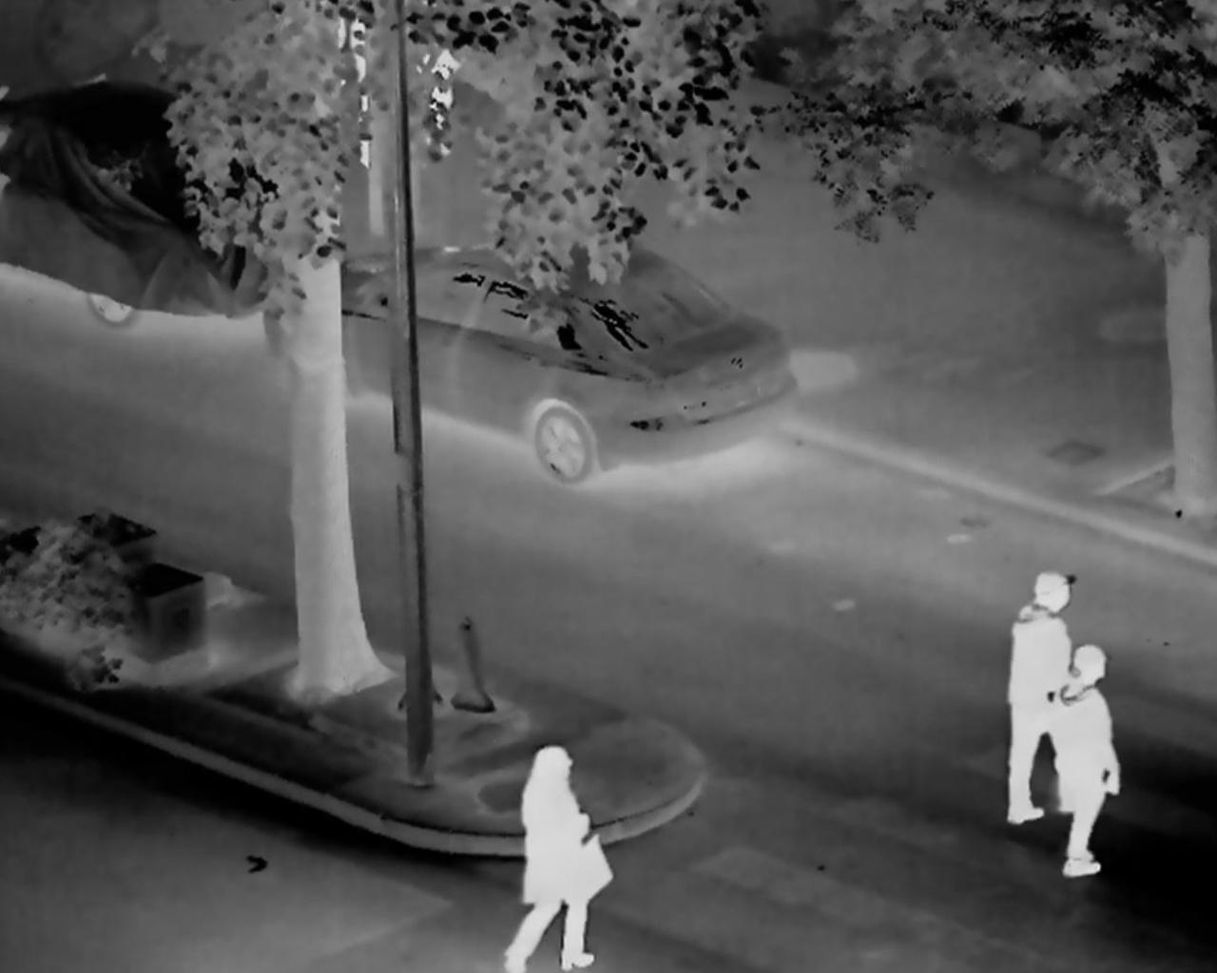person: (517, 737, 631, 973), (1041, 650, 1142, 916), (995, 565, 1091, 827)
